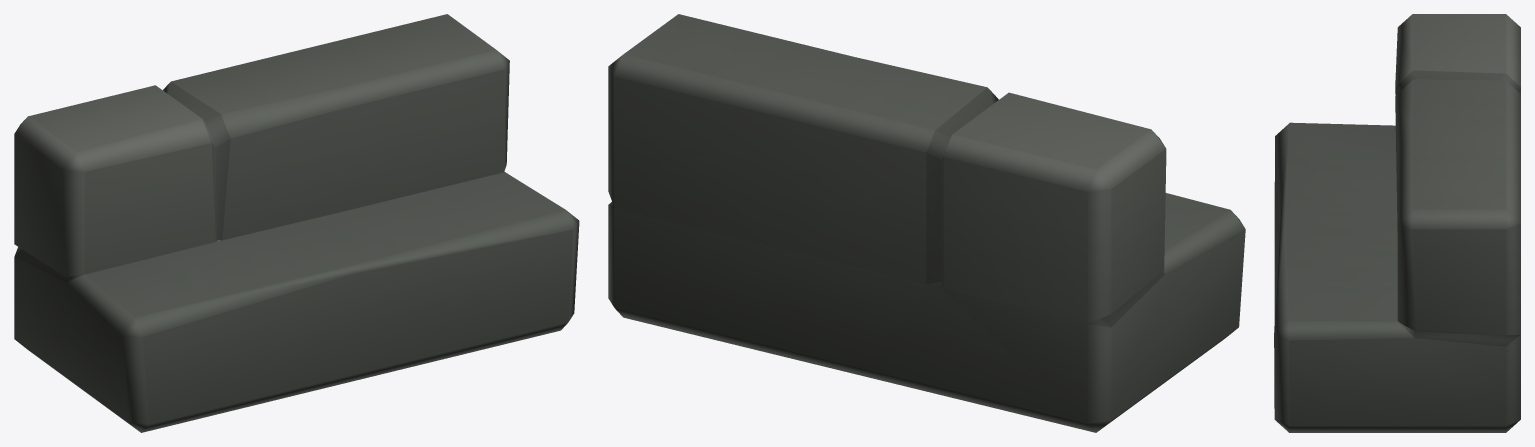
Rendered from stairs_half_2_shade_4.fbx.
3 renders of one model, left to right at view 1: azimuth 30°, elevation 25°; view 2: azimuth 150°, elevation 25°; view 3: azimuth 270°, elevation 25°, orthographic. The views are drawn at different scales.
Parts seen in each view (by area): view 1: stairs_half_2_shade_4; view 2: stairs_half_2_shade_4; view 3: stairs_half_2_shade_4.
Part boxes in pixels (x1,y1,x2,y2): stairs_half_2_shade_4: [14, 14, 579, 432]; stairs_half_2_shade_4: [608, 14, 1245, 432]; stairs_half_2_shade_4: [1274, 14, 1520, 432].
Bounding box in the file's own units: 102 × 50.51 × 50.1.
